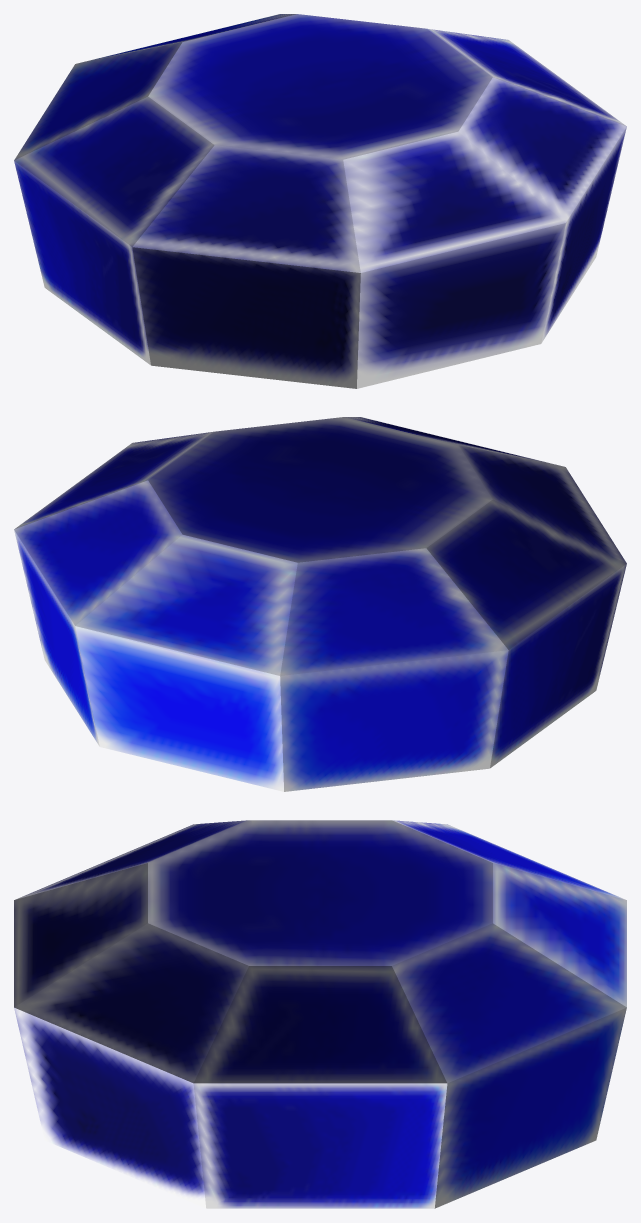
The model's file is freq1.ico.obj.
The picture shows the model from 3 angles, top to bottom: view 1: azimuth 30°, elevation 25°; view 2: azimuth 150°, elevation 25°; view 3: azimuth 270°, elevation 25°; orthographic projection. The views are drawn at different scales.
Bounding box in the file's own units: 4.44 × 1.59 × 4.44.
1 material, 1 textured.
